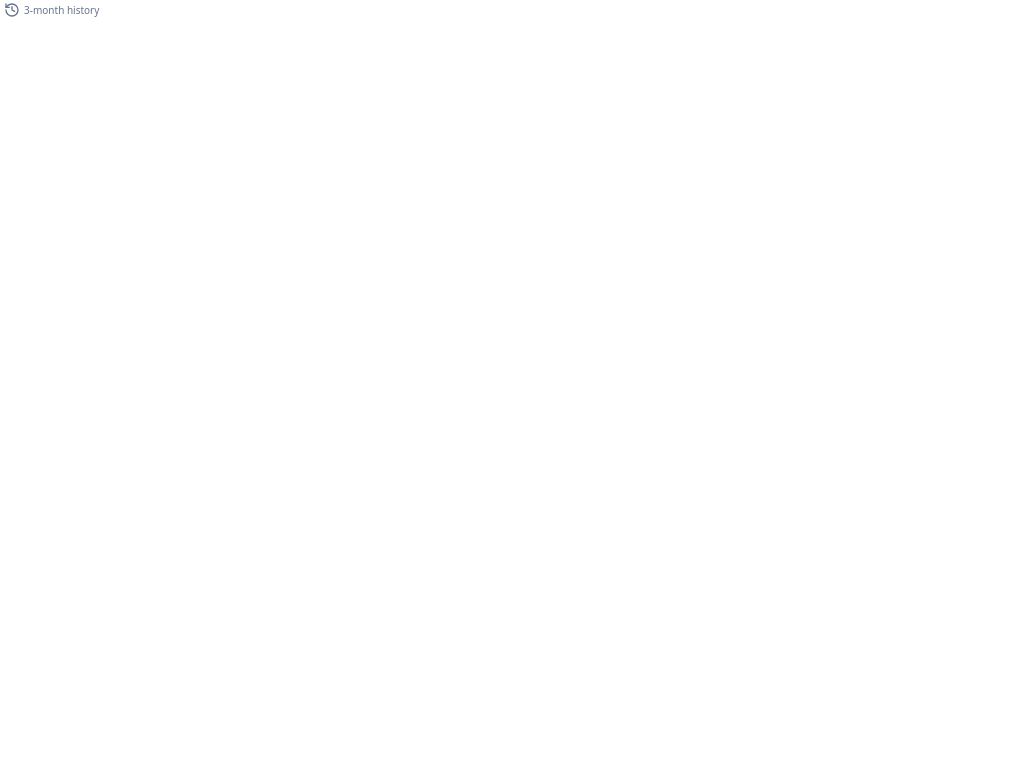
Test: loads only on opening and browses cleared and replaced notes with authors
Click the button "3-month history" at (52, 10), box [0,0,103,20]
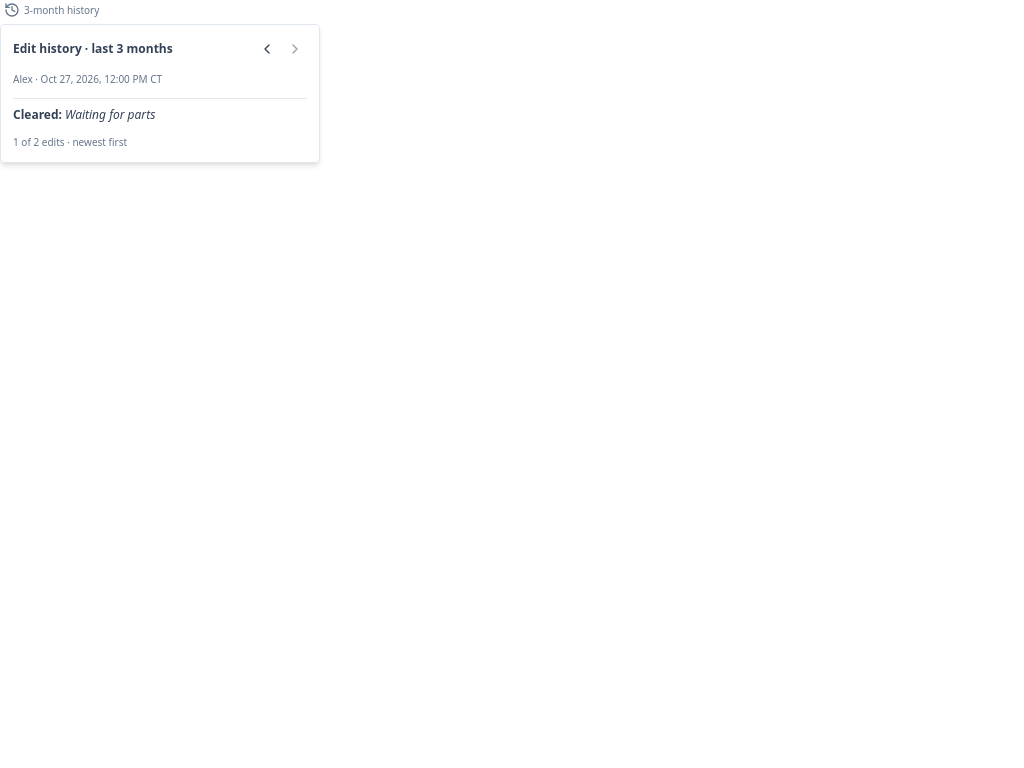
Expected: the text "Alex · Oct 27, 2026, 12:00 PM CT" is shown, [13,72,162,86]
Expected: the text "Cleared:" is shown, [13,106,65,122]
Expected: the button named "Newer note" is disabled, [283,37,307,61]
Click the button named "Older note" at (267, 49), box [255,37,279,61]
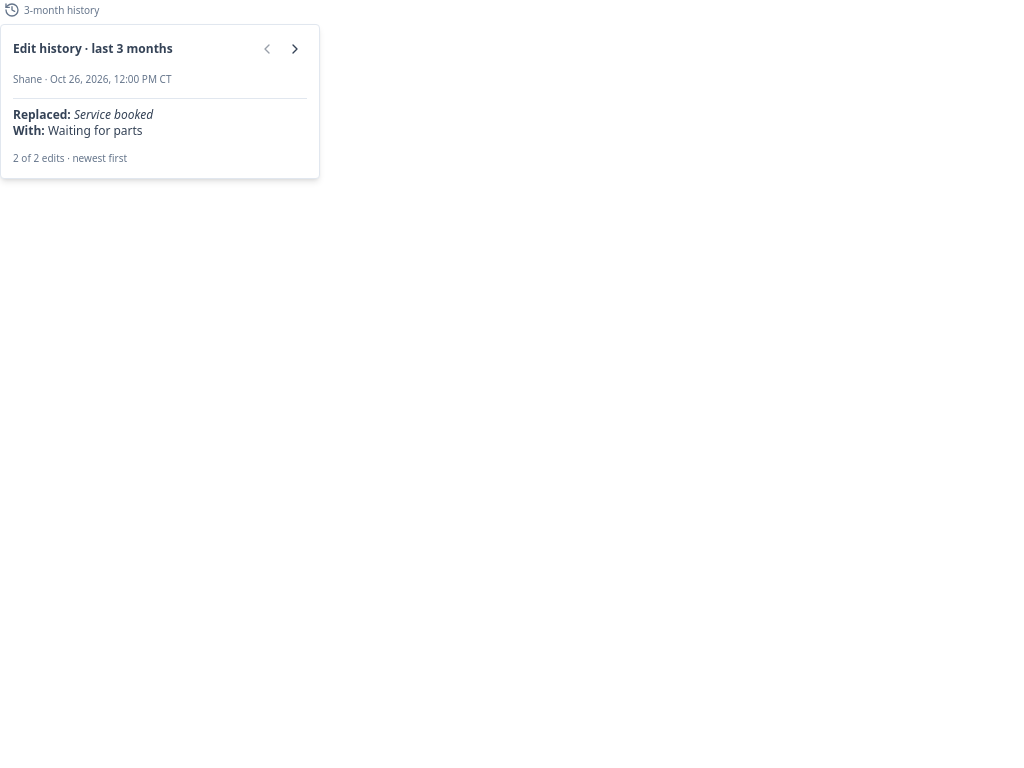
Expected: the text "Shane · Oct 26, 2026, 12:00 PM CT" is shown, [13,72,172,86]
Expected: the text "Service booked" is shown, [74,106,153,122]
Expected: the text "With:" is shown, [13,122,48,138]
Click the button named "Newer note" at (295, 49), box [283,37,307,61]
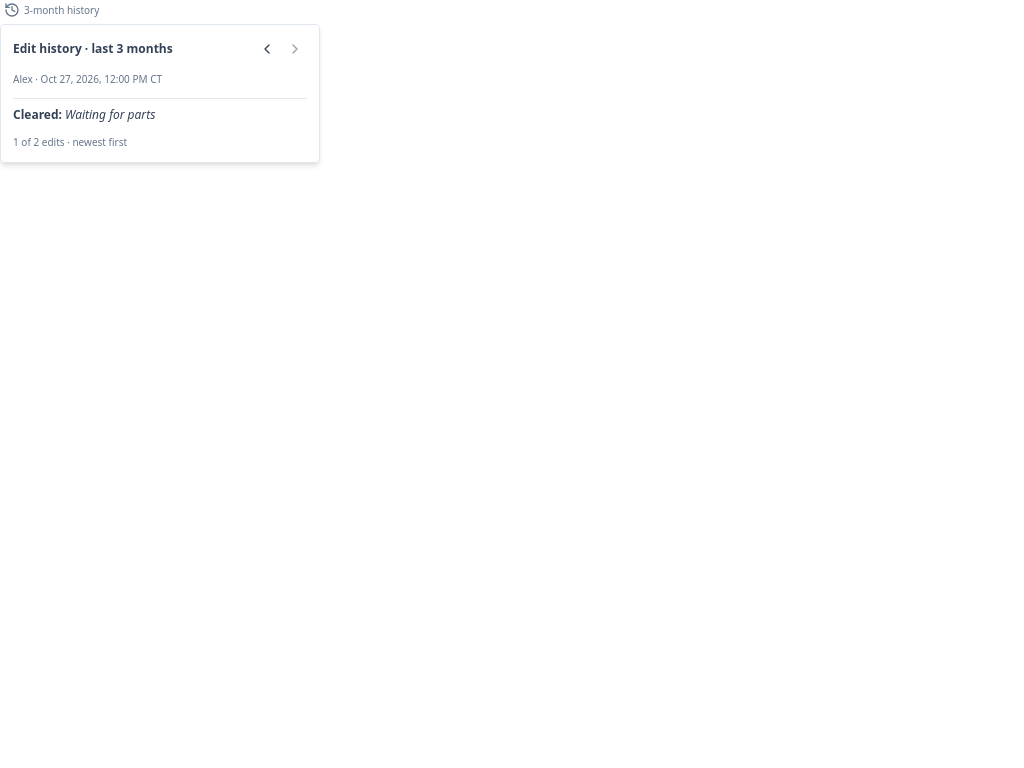
Expected: the text "Alex · Oct 27, 2026, 12:00 PM CT" is shown, [13,72,162,86]
